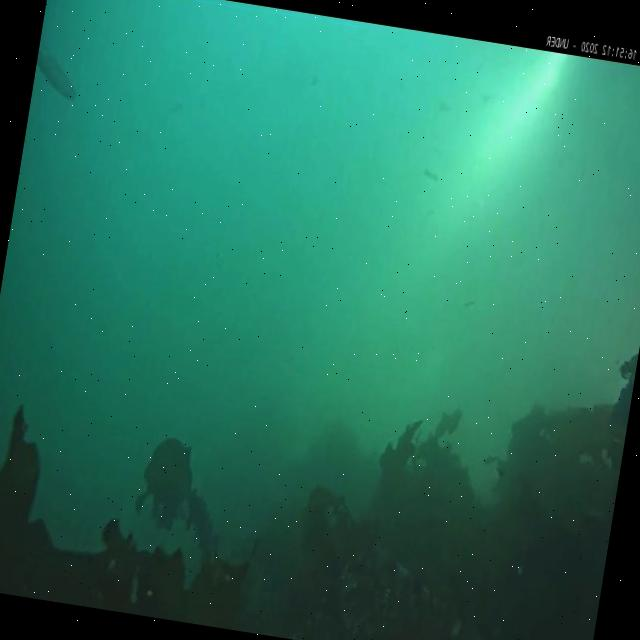fish: (32, 50, 82, 101)
